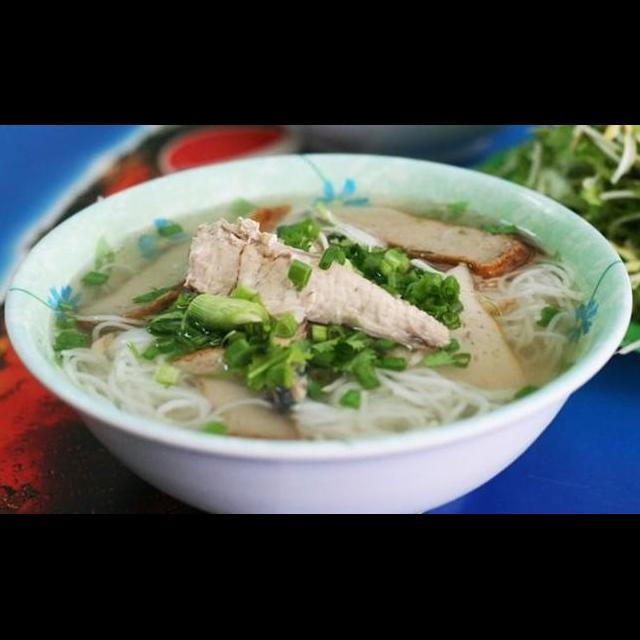bun: (283, 356, 520, 444), (41, 316, 218, 430), (467, 250, 609, 374)
bun ca: (28, 165, 626, 514)
ca: (175, 206, 461, 356)
